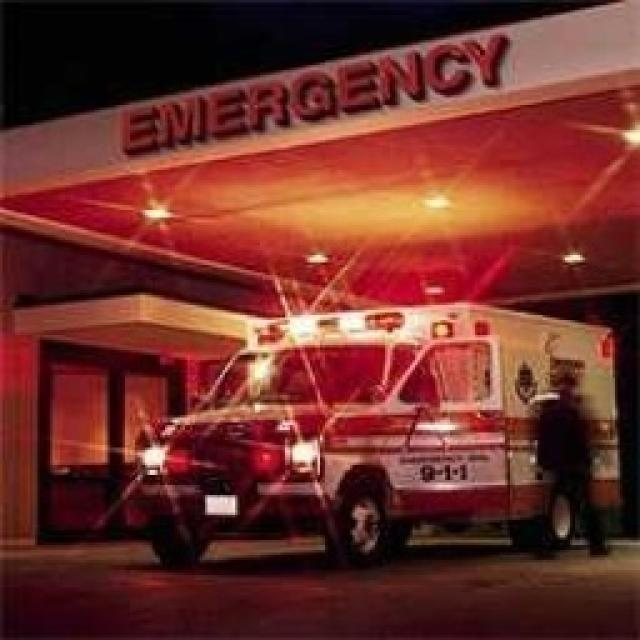emergency-vehicle: (137, 305, 632, 564)
